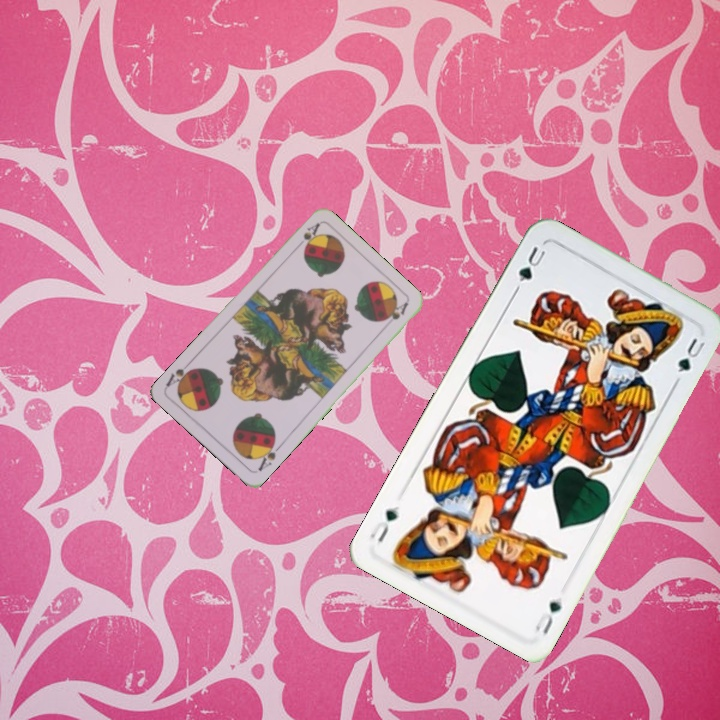GU: (531, 593, 565, 637), (514, 242, 548, 285)
SA: (253, 436, 284, 474), (291, 219, 322, 253)
